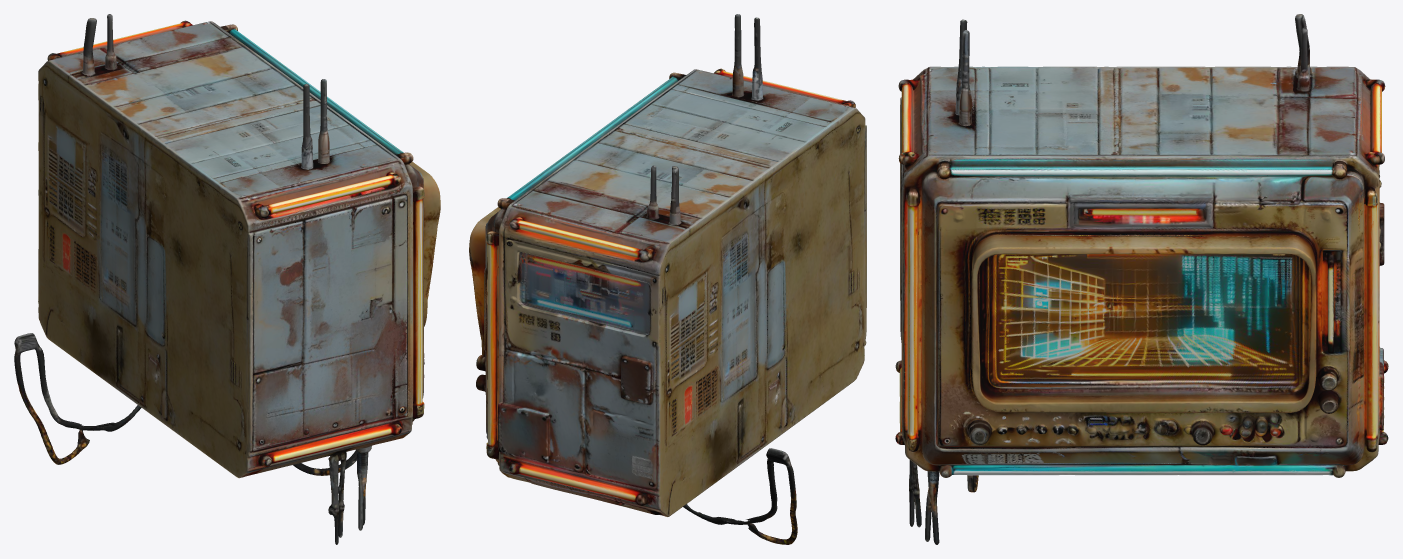
Rendered from screen.glb.
3 renders of one model, left to right at view 1: azimuth 30°, elevation 25°; view 2: azimuth 150°, elevation 25°; view 3: azimuth 270°, elevation 25°, orthographic. The views are drawn at different scales.
Parts seen in each view (by area): view 1: tripo_node_18610ad1-2308-4a48-ae0c-0bcdd13c5175; view 2: tripo_node_18610ad1-2308-4a48-ae0c-0bcdd13c5175; view 3: tripo_node_18610ad1-2308-4a48-ae0c-0bcdd13c5175.
Boxes of the visible parts, box(x1,y1,x2,y2) form: tripo_node_18610ad1-2308-4a48-ae0c-0bcdd13c5175: box(14, 14, 440, 544); tripo_node_18610ad1-2308-4a48-ae0c-0bcdd13c5175: box(469, 14, 866, 544); tripo_node_18610ad1-2308-4a48-ae0c-0bcdd13c5175: box(895, 14, 1388, 544).
Bounding box in the file's own units: 0.7144 × 0.9999 × 0.8895.
1 material, 1 textured.
